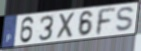3: (38, 14, 56, 42)
6: (76, 10, 96, 38), (19, 16, 34, 45)
F: (96, 7, 117, 37)
S: (114, 6, 136, 34)
X: (56, 11, 77, 41)
